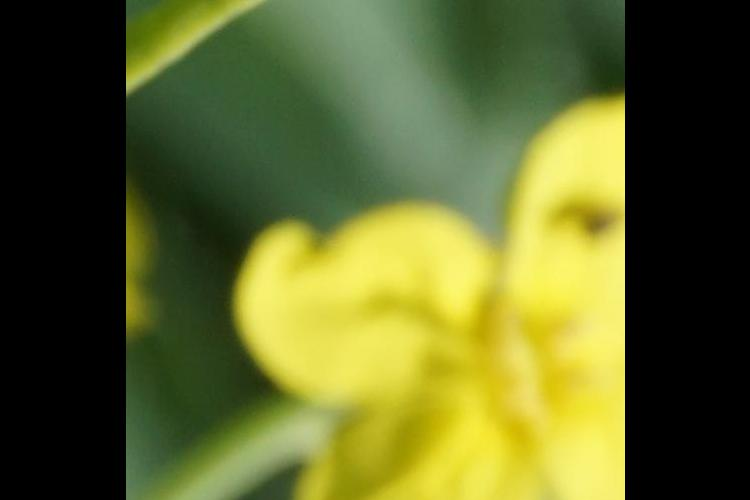yellow: (256, 121, 602, 500)
